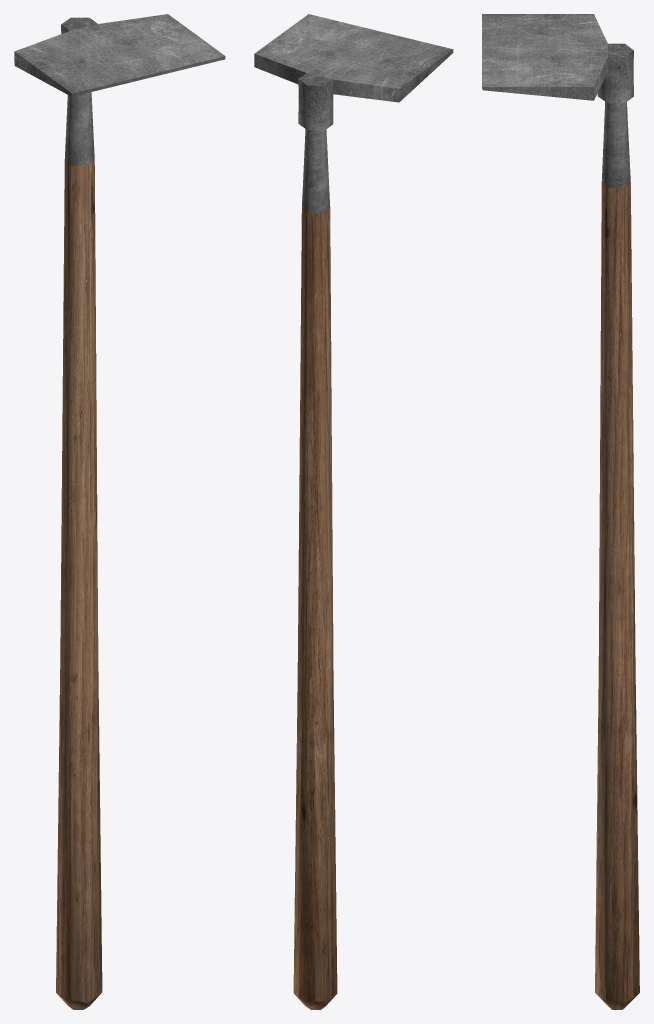
The model's file is Tool_Hoe.glb.
The picture shows the model from 3 angles, left to right: view 1: azimuth 30°, elevation 25°; view 2: azimuth 150°, elevation 25°; view 3: azimuth 270°, elevation 25°; orthographic projection. The views are drawn at different scales.
Parts seen in each view (by area): view 1: Tool_Hoe; view 2: Tool_Hoe; view 3: Tool_Hoe.
Part boxes in pixels (bbox=[...]): Tool_Hoe: bbox=[14, 14, 225, 1009]; Tool_Hoe: bbox=[254, 14, 453, 1009]; Tool_Hoe: bbox=[482, 14, 639, 1009].
Bounding box in the file's own units: 0.229 × 1.4 × 0.2095.
1 material, 1 textured.
